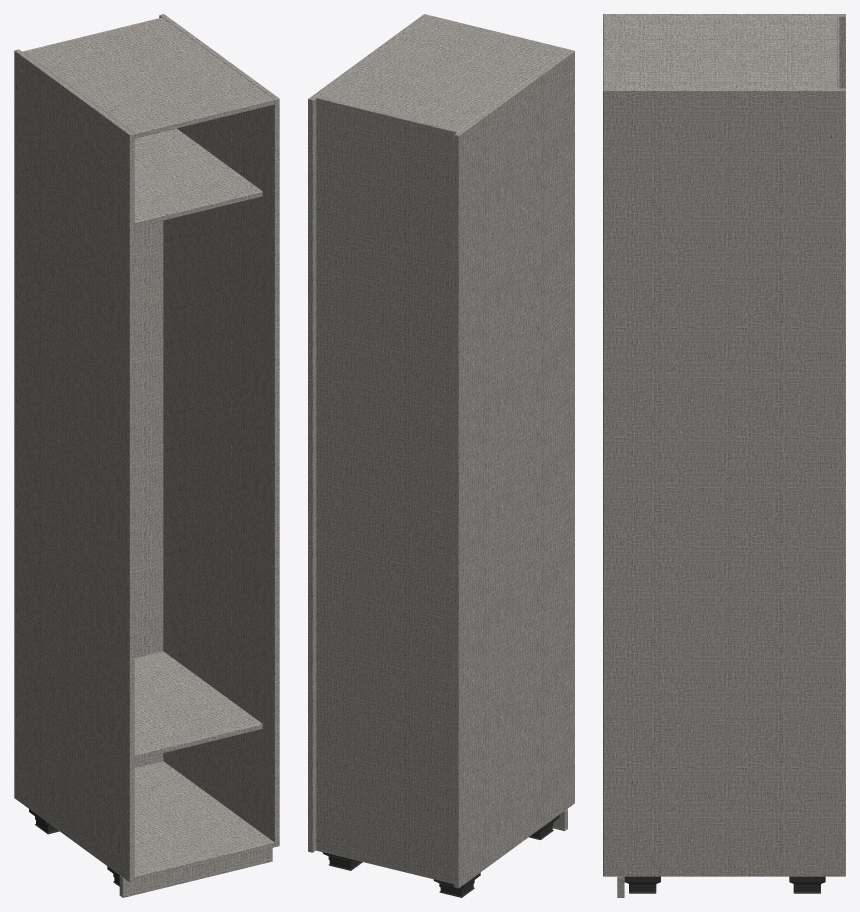
Rendered from cbib12124.gltf.
3 renders of one model, left to right at view 1: azimuth 30°, elevation 25°; view 2: azimuth 150°, elevation 25°; view 3: azimuth 270°, elevation 25°, orthographic. The views are drawn at different scales.
Parts seen in each view (by area): view 1: CBIB12124; view 2: CBIB12124; view 3: CBIB12124.
Boxes of the visible parts, left/top/right/bottom form: CBIB12124: left=14, top=14, right=279, bottom=897; CBIB12124: left=308, top=14, right=574, bottom=897; CBIB12124: left=603, top=14, right=845, bottom=897.
Bounding box in the file's own units: 0.45 × 2.2 × 0.6.
3 materials, 2 textured.
